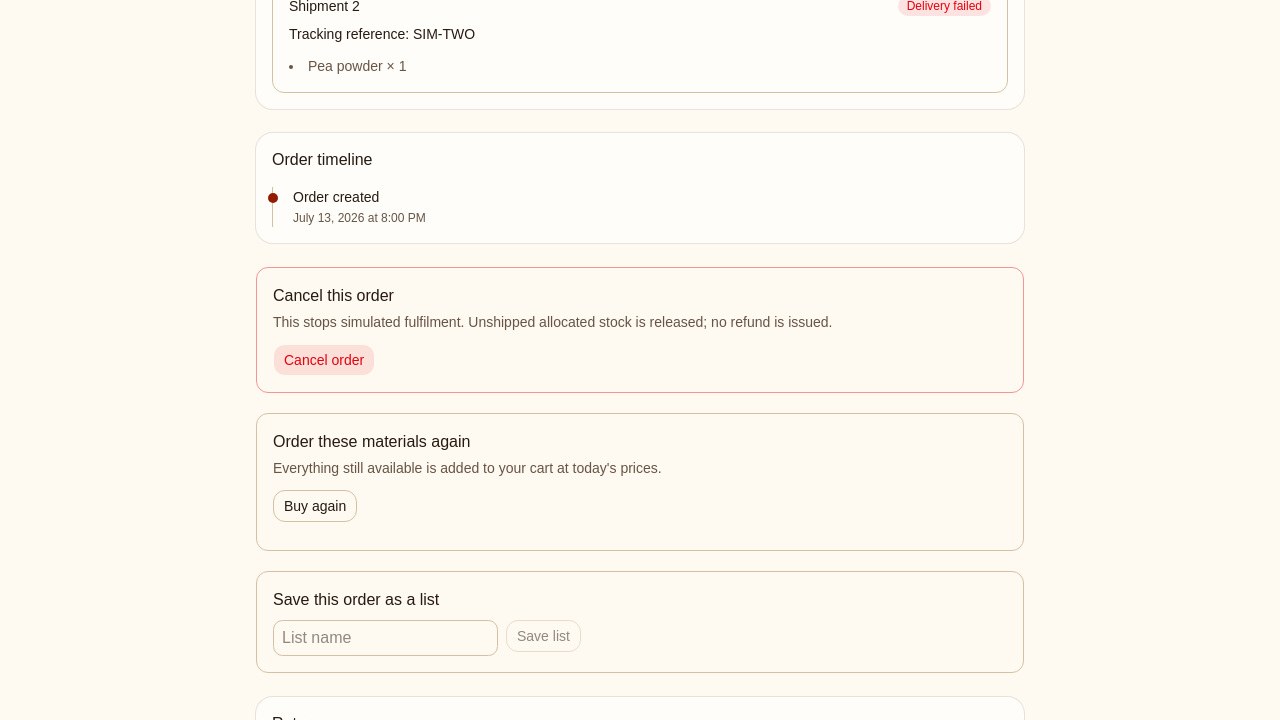
customer order UI › renders split shipments and requires a second cancellation confirmation
(page scrolled)
Click the button "Cancel order": (324, 360) [273,344,375,376]
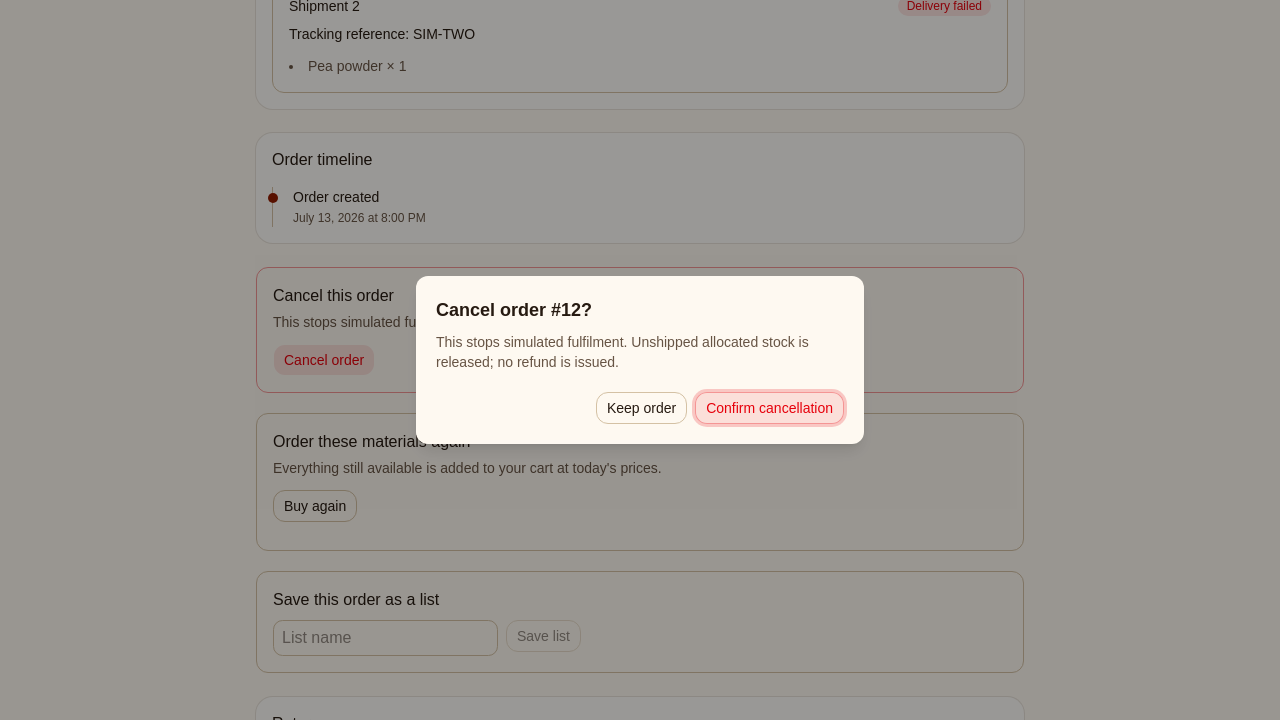
Now the dialog "Cancel order #12?" is shown
Click the button "Confirm cancellation": (770, 408) [695,392,844,424]
(page scrolled)
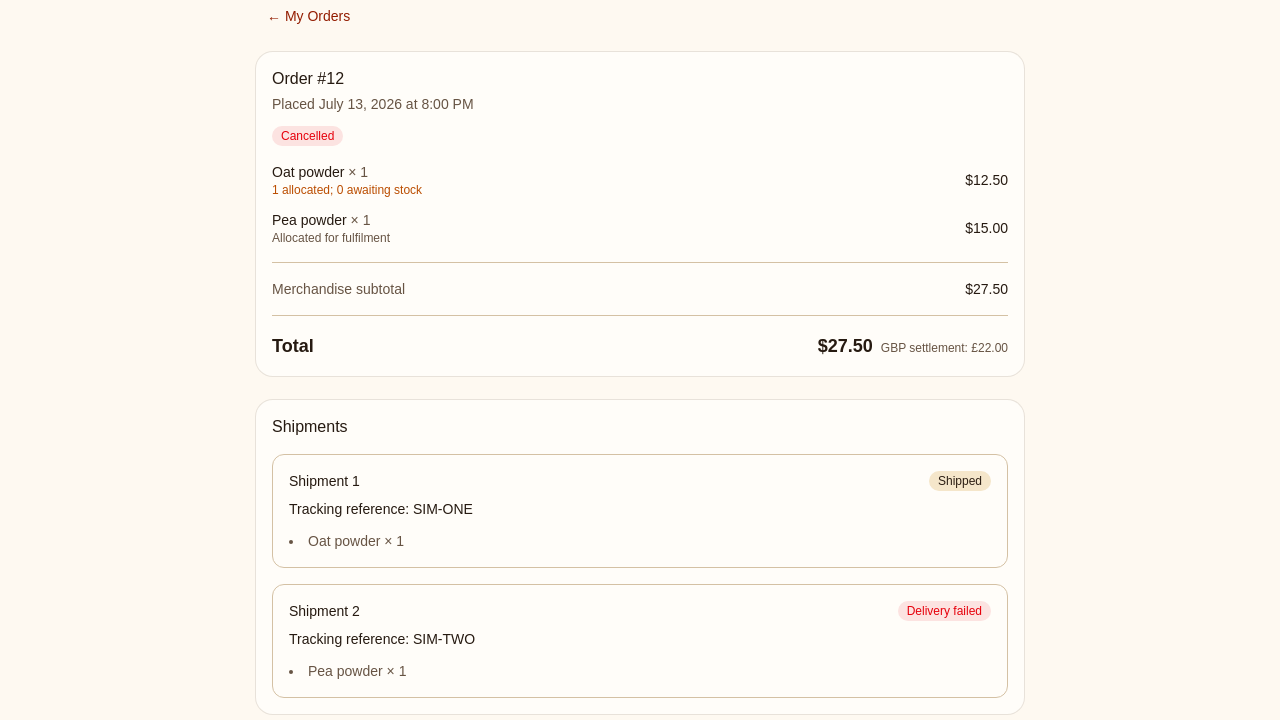
Now the text "Cancelled" is shown, box [272,126,343,146]
